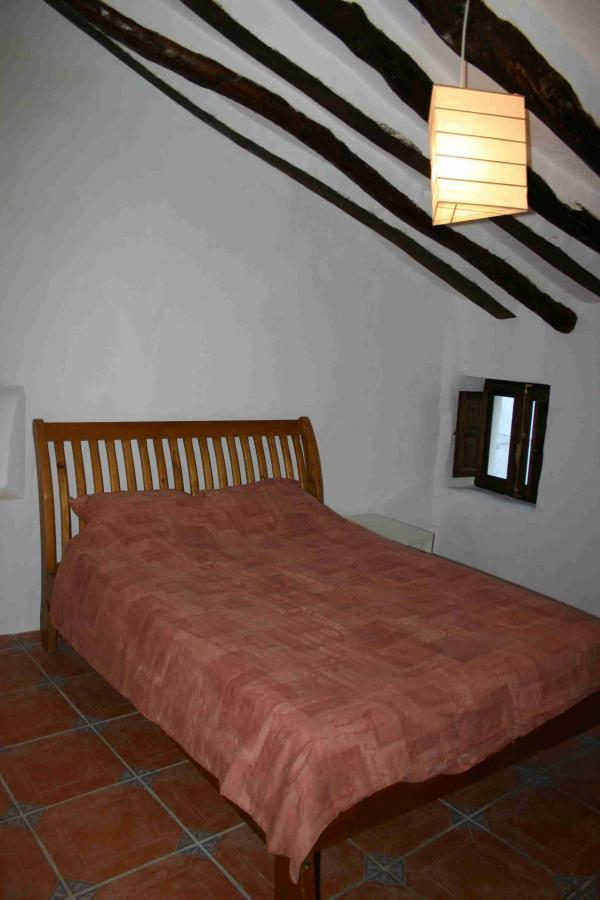Cama: (20, 403, 591, 891)
